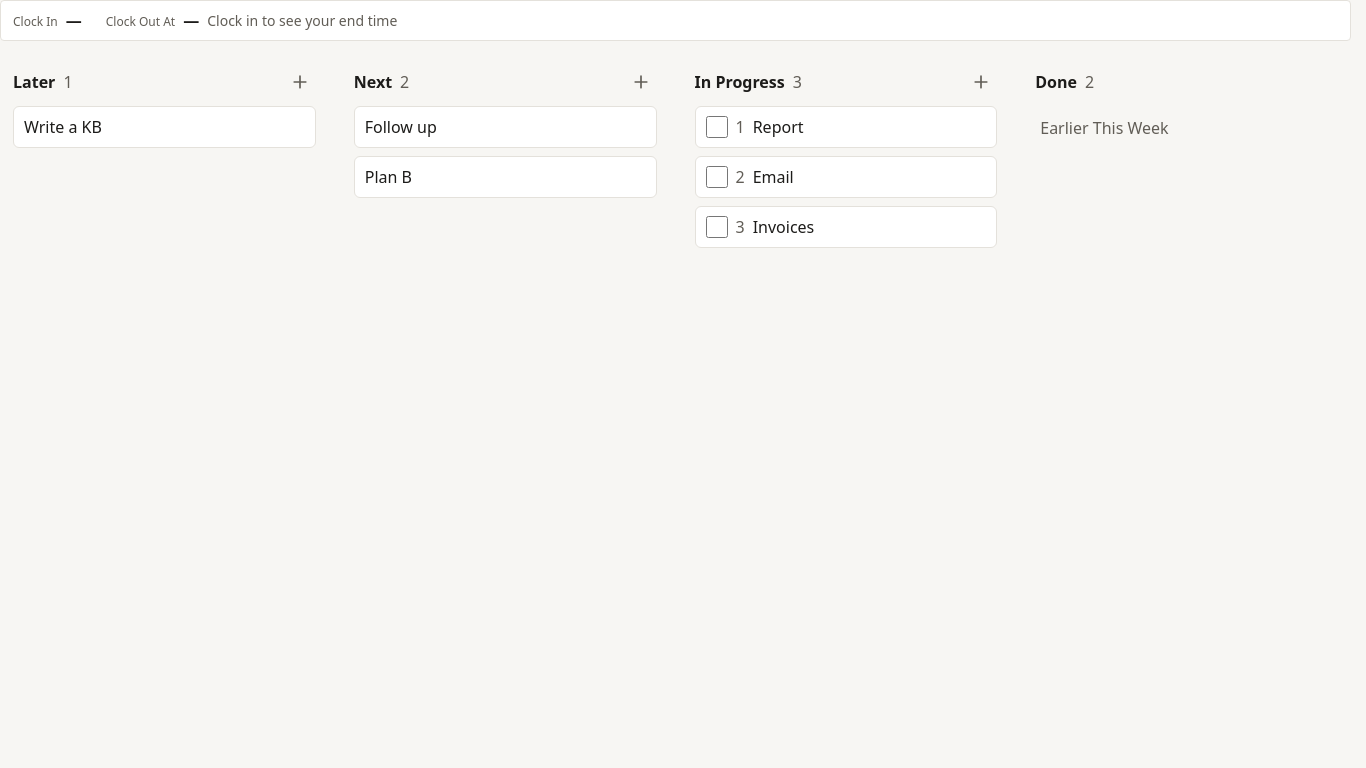
Scenario: starting the focus timer › takes down a Move to's nudge when a row's Start starts the timer
Step 1. Click the button "Follow up" → x=401, y=127, box [365,115,646,139]
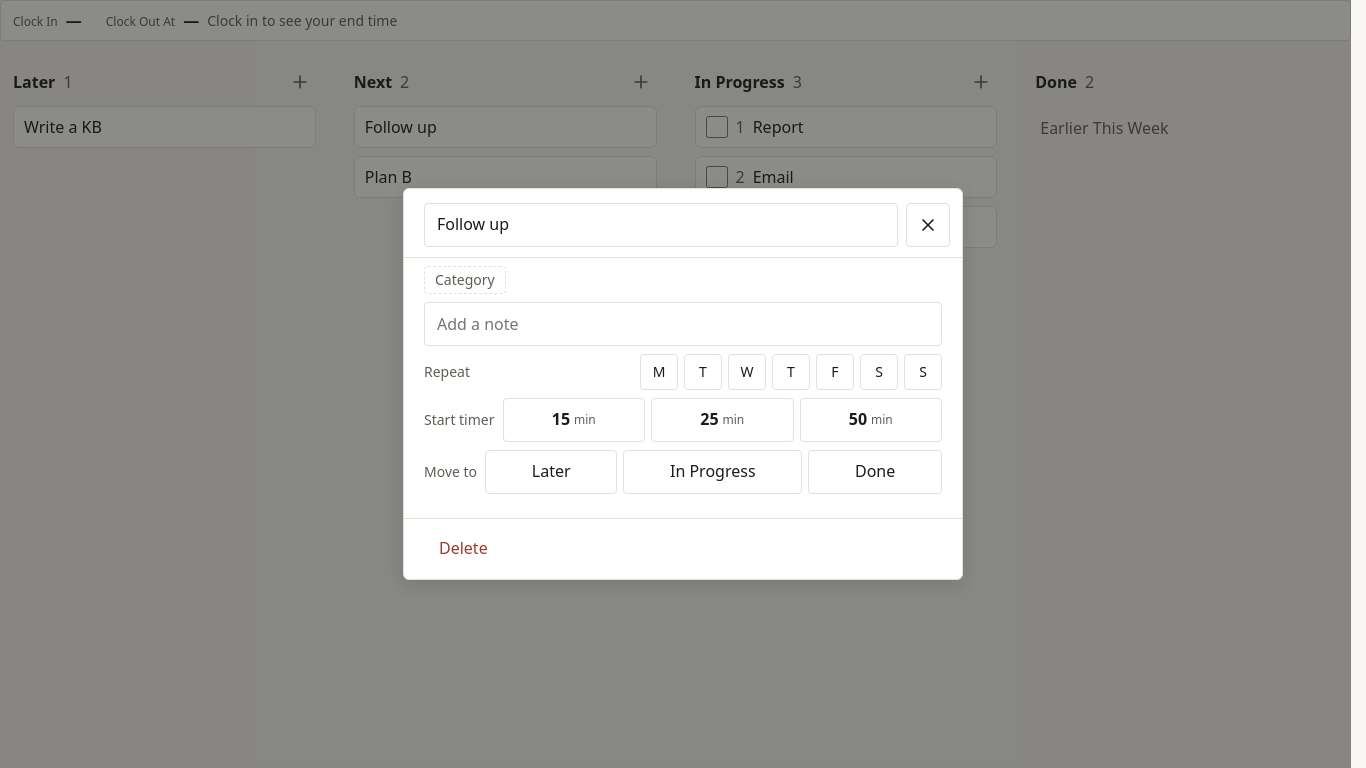
Step 2. Click the button "In Progress" → x=713, y=472, box [623,450,802,494]
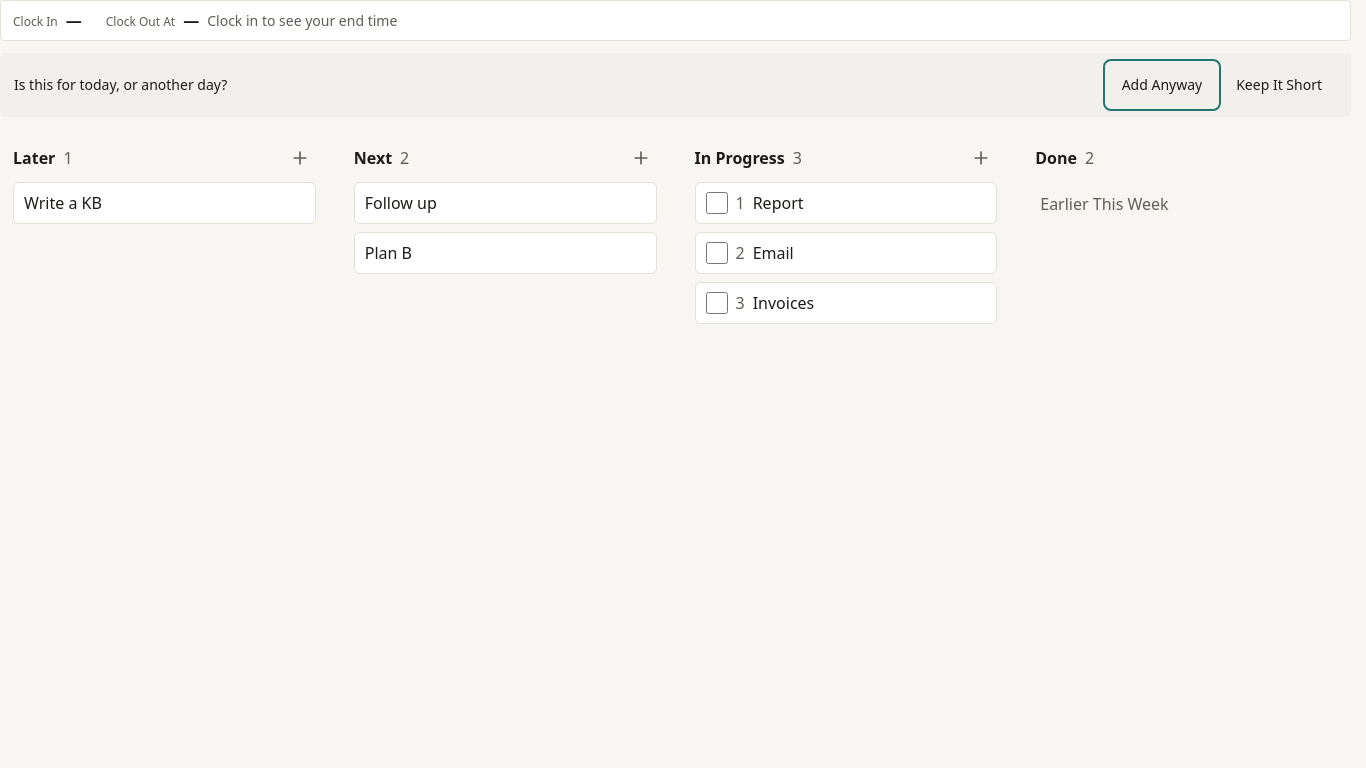
Result: the button "Add Anyway" is shown at [1107,63,1217,107]
Result: the dialog is gone
Step 3. Click the button "Report" → x=870, y=203, box [753,191,986,215]
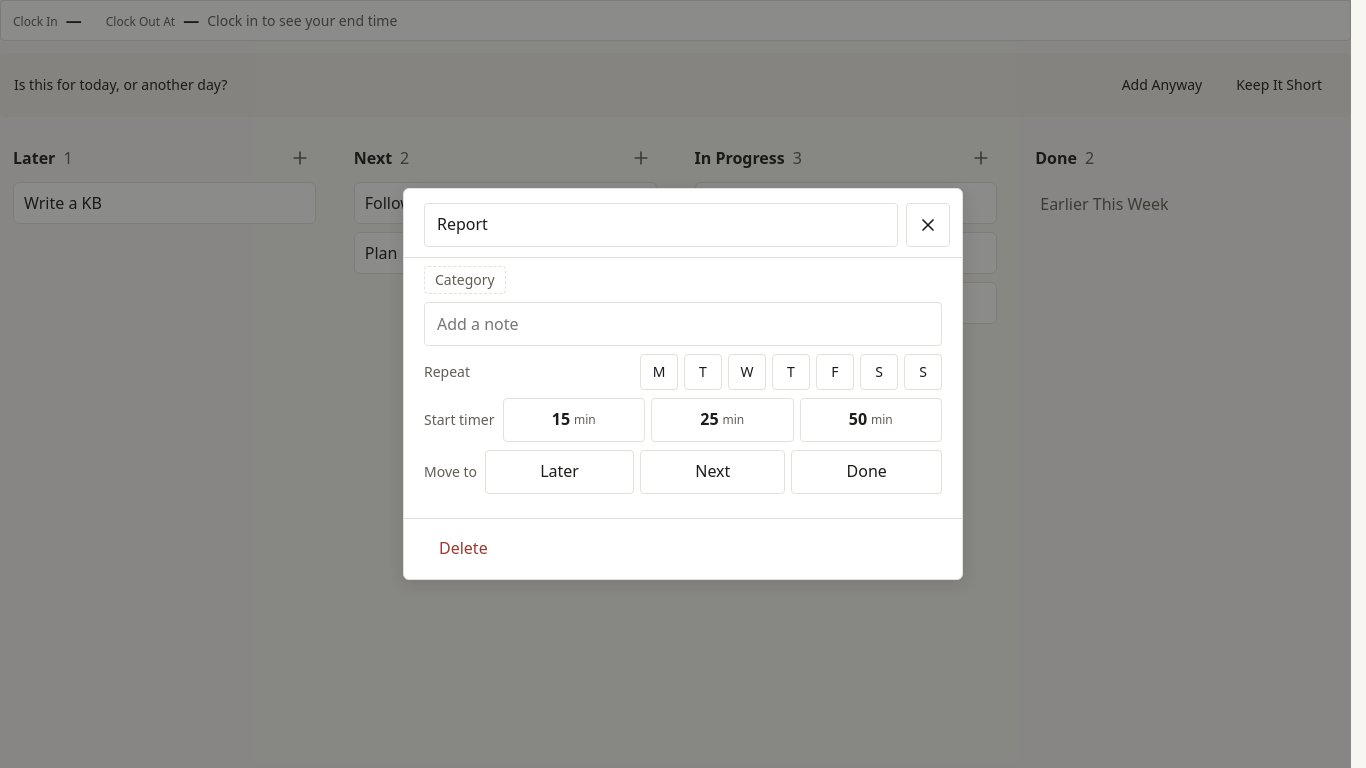
Step 4. Click the button "15 min" → x=574, y=420, box [502,398,645,442]
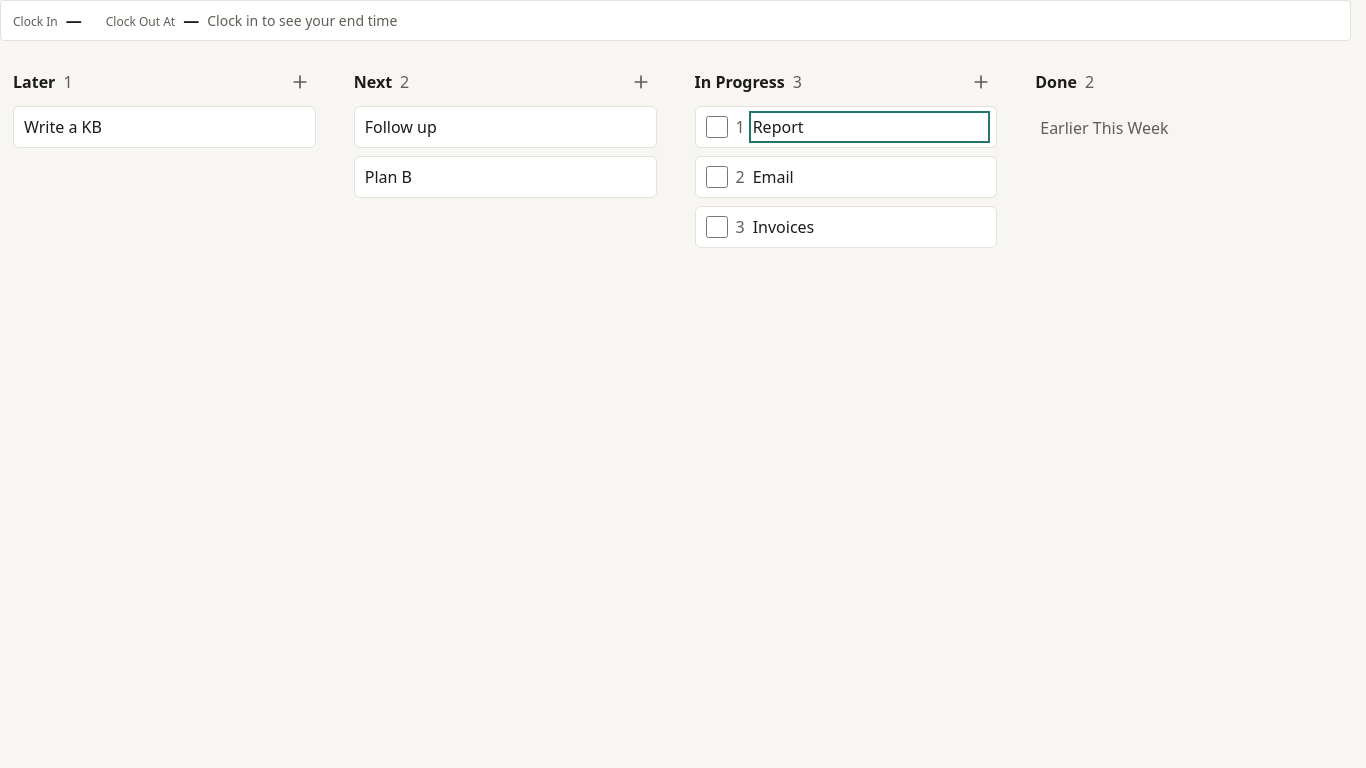
Result: the button "Add Anyway" is gone
